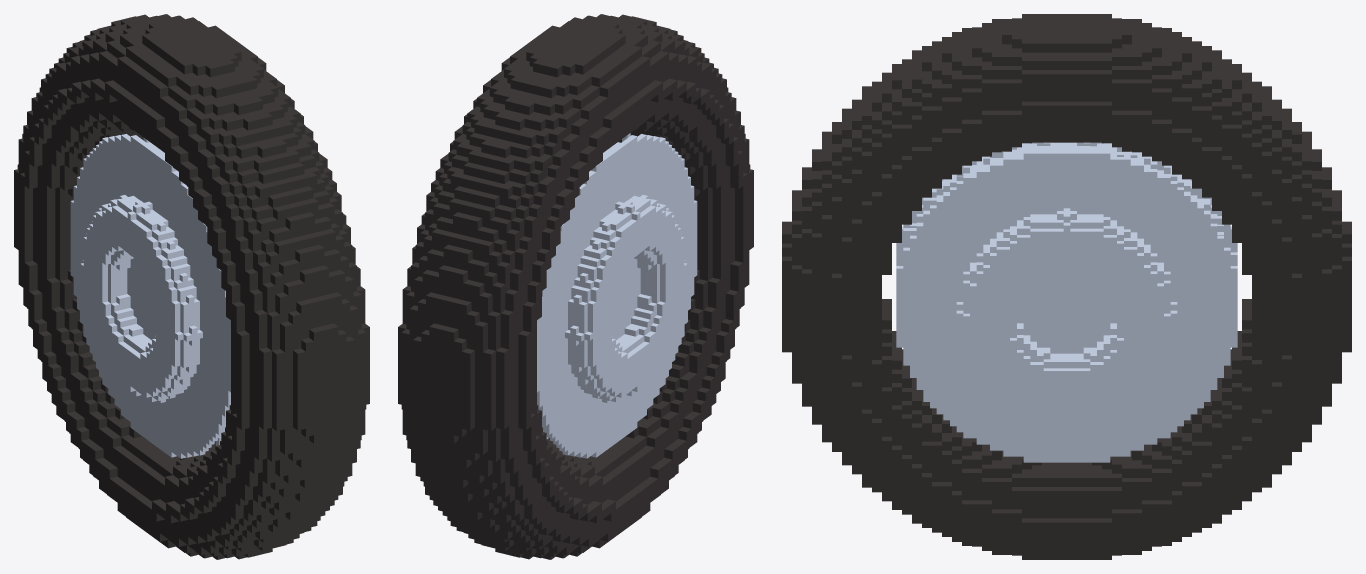
The model's file is new_motor_wheel.fbx.
3 views of the same model, side by side, from view 1: azimuth 30°, elevation 25°; view 2: azimuth 150°, elevation 25°; view 3: azimuth 270°, elevation 25° (orthographic). The views are drawn at different scales.
Visible parts, largest first — view 1: Circle.003, Circle.002; view 2: Circle.003, Circle.002; view 3: Circle.003, Circle.002.
Part boxes in pixels (x1,y1,x2,y2): Circle.003: [14, 14, 369, 559]; Circle.002: [70, 134, 230, 458]; Circle.003: [398, 14, 753, 559]; Circle.002: [537, 133, 697, 458]; Circle.003: [782, 14, 1351, 559]; Circle.002: [896, 142, 1237, 462].
Size of the model in its own units: 21.49 by 79.61 by 79.61.
